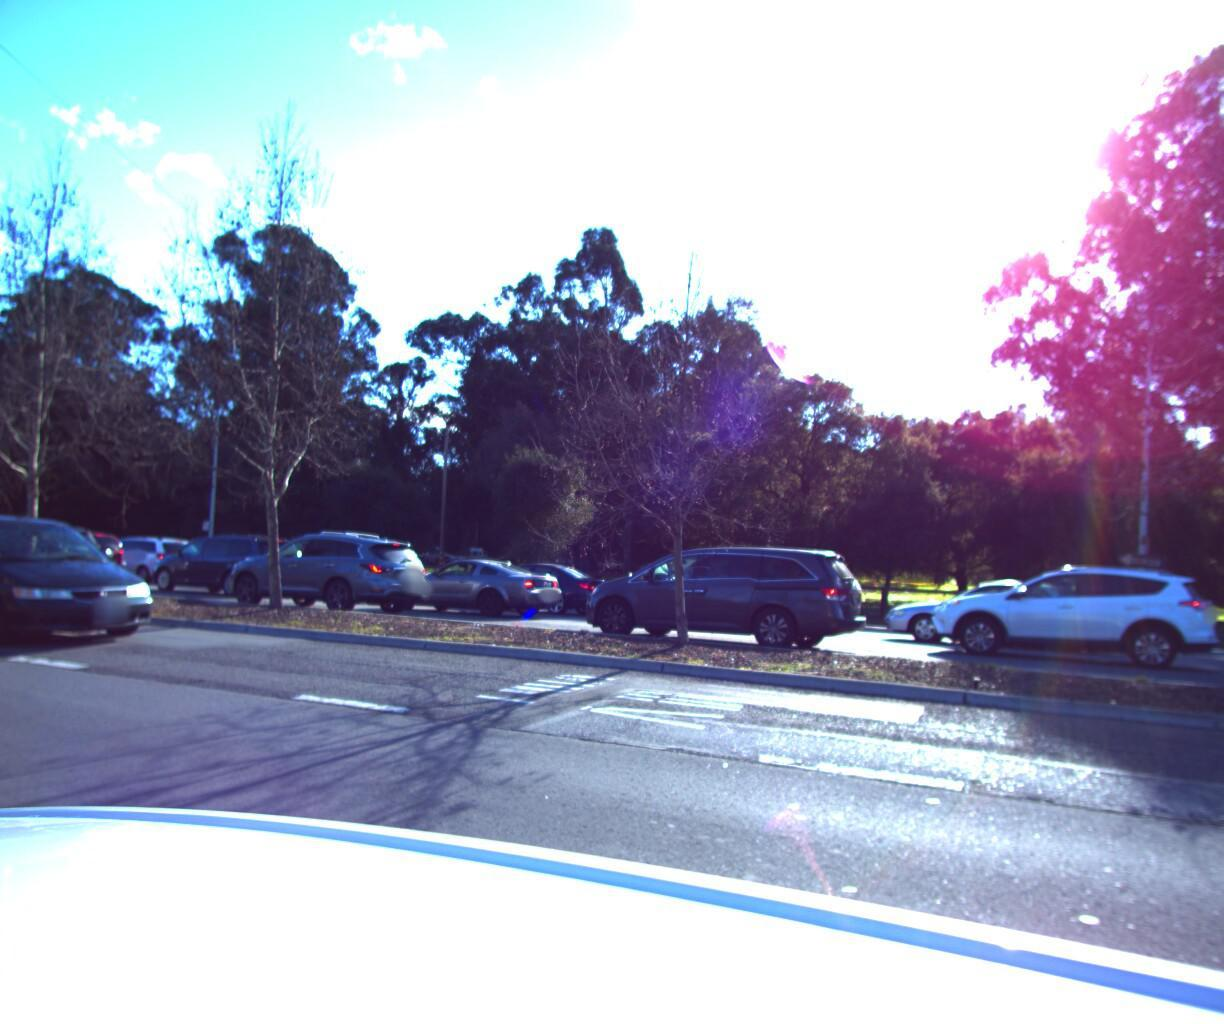car: (558, 534, 875, 660), (925, 559, 1224, 677), (0, 503, 179, 661), (199, 522, 437, 618), (876, 560, 1109, 653), (363, 551, 571, 618), (134, 525, 314, 597), (458, 555, 625, 614), (0, 523, 131, 581), (74, 529, 206, 583)
